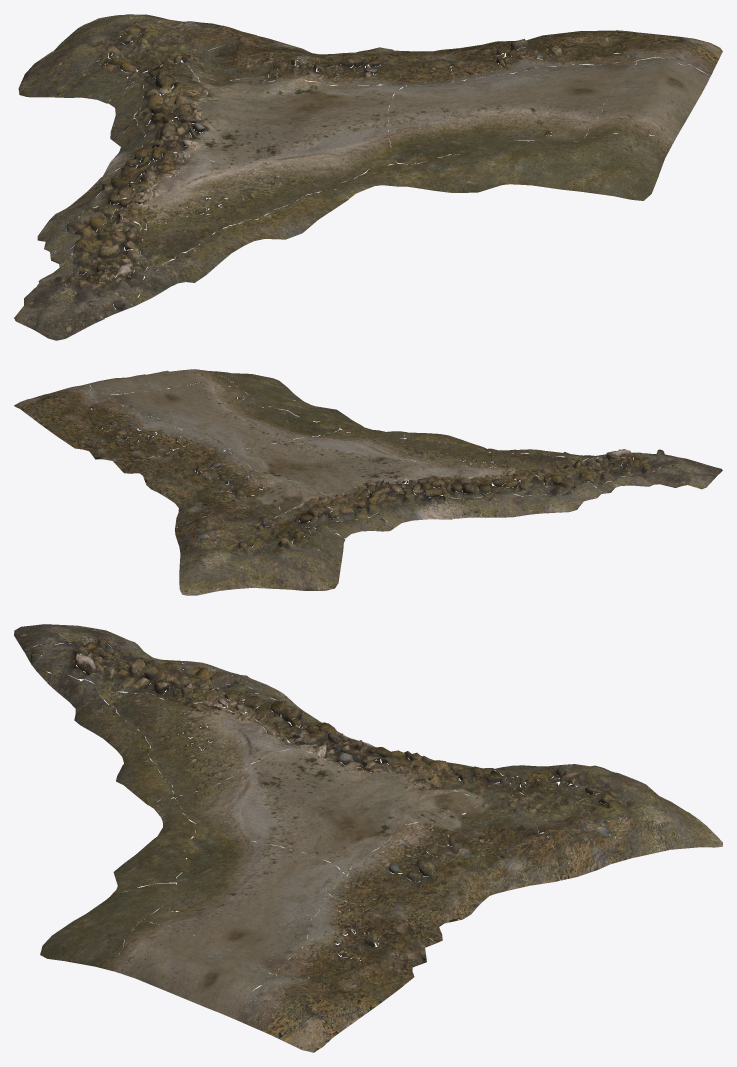
File: polyhaven-coast_rocks_01.glb
3 views of the same model, one above another, from view 1: azimuth 30°, elevation 25°; view 2: azimuth 150°, elevation 25°; view 3: azimuth 270°, elevation 25° (orthographic). The views are drawn at different scales.
Parts seen in each view (by area): view 1: coast_rocks_01; view 2: coast_rocks_01; view 3: coast_rocks_01.
Boxes of the visible parts, x1,y1,x2,y2 form: coast_rocks_01: (14, 14, 722, 340); coast_rocks_01: (14, 369, 722, 595); coast_rocks_01: (14, 624, 722, 1052).
Bounding box in the file's own units: 59.51 × 3.27 × 42.52.
1 material, 1 textured.
